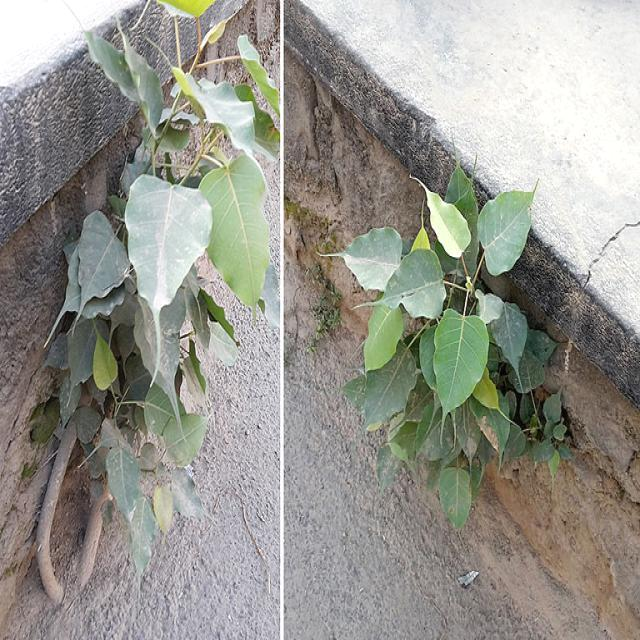vegetation: (23, 0, 279, 606), (317, 155, 573, 529)
